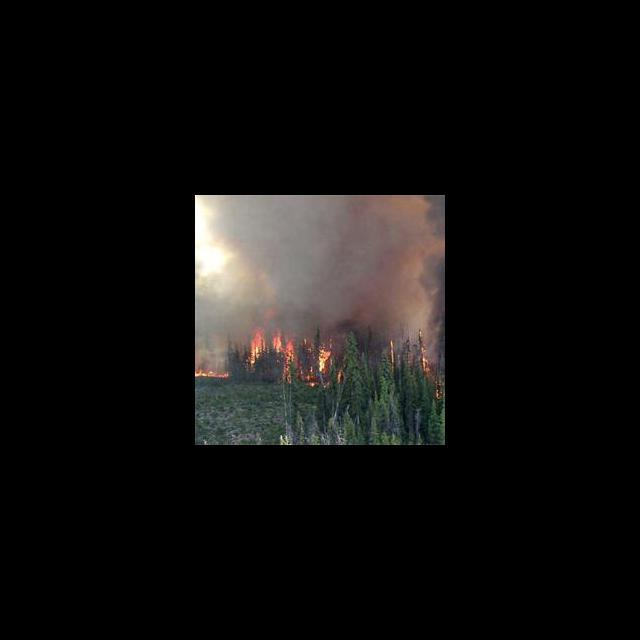Fire: (198, 326, 445, 398)
Smoke: (208, 200, 441, 322)
